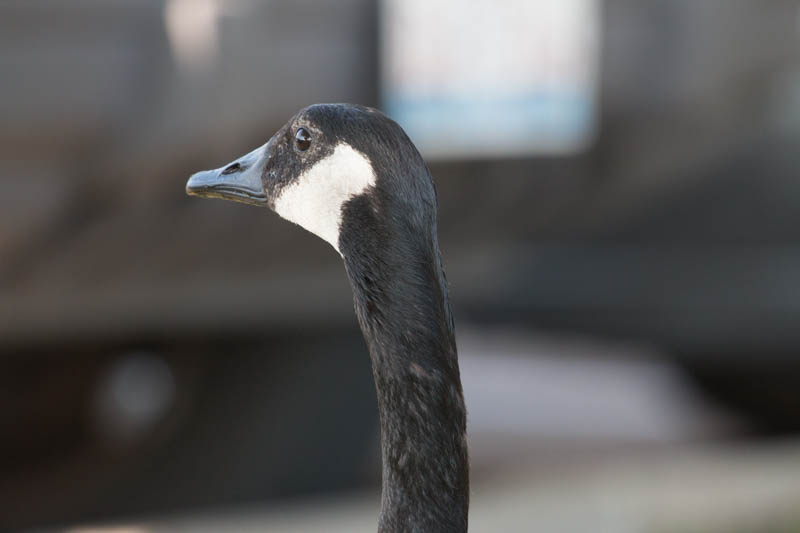goose-head: (187, 103, 440, 258)
